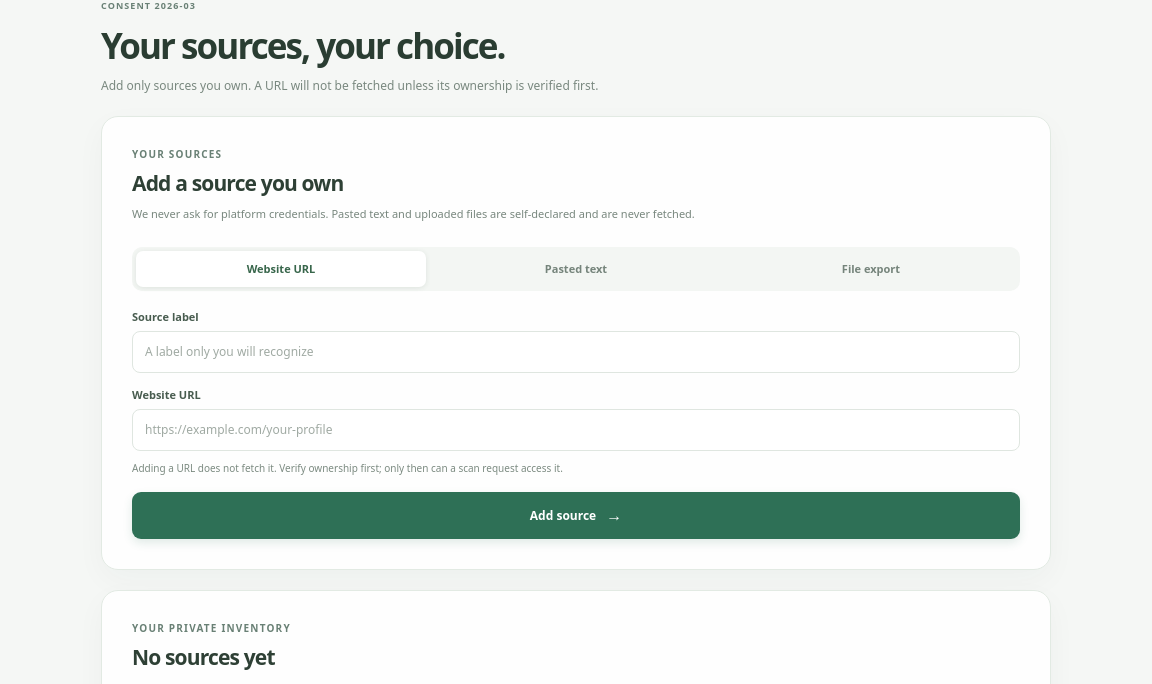
consent and source management › adds pasted text without fetching it and displays only the masked preview
This screenshot has width=1152, height=684.
Check: the heading "No sources yet" is shown, box [132,642,291,670]
Click the button "Pasted text" at {"x": 576, "y": 268}, box [431,250,721,286]
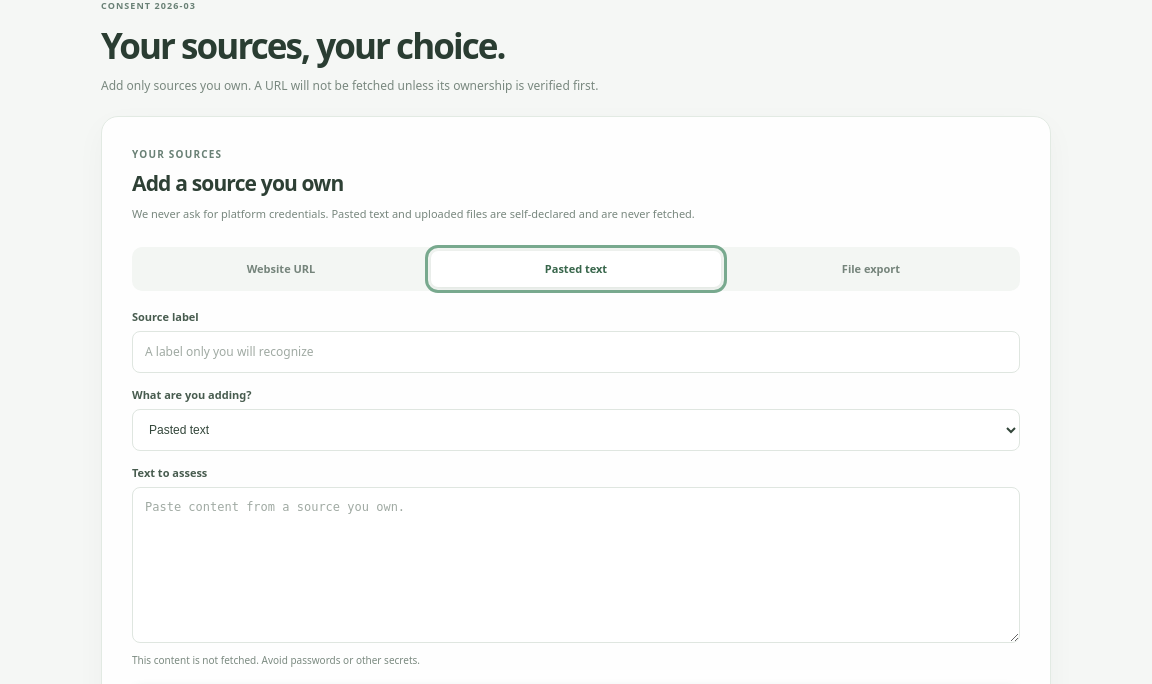
Type "My notes" into the field labelled "Source label" at {"x": 576, "y": 352}, box [132,330,1020,372]
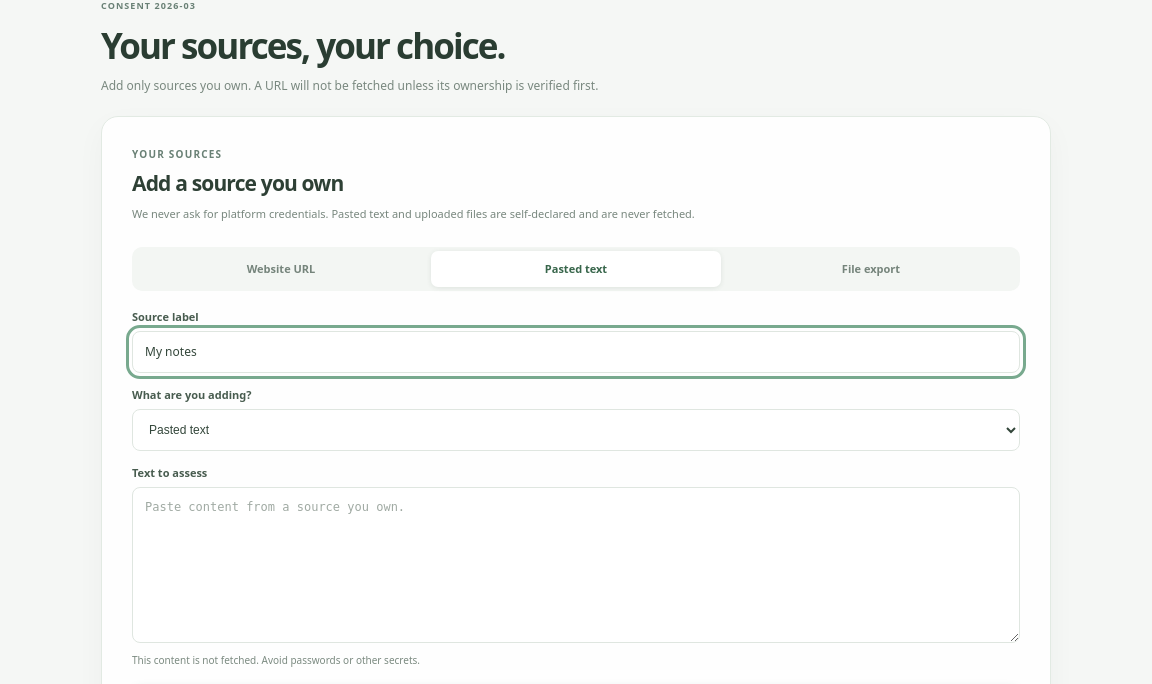
Type "Synthetic text to assess" into the text box labelled "Text to assess" at {"x": 576, "y": 565}, box [132,486,1020,643]
(page scrolled)
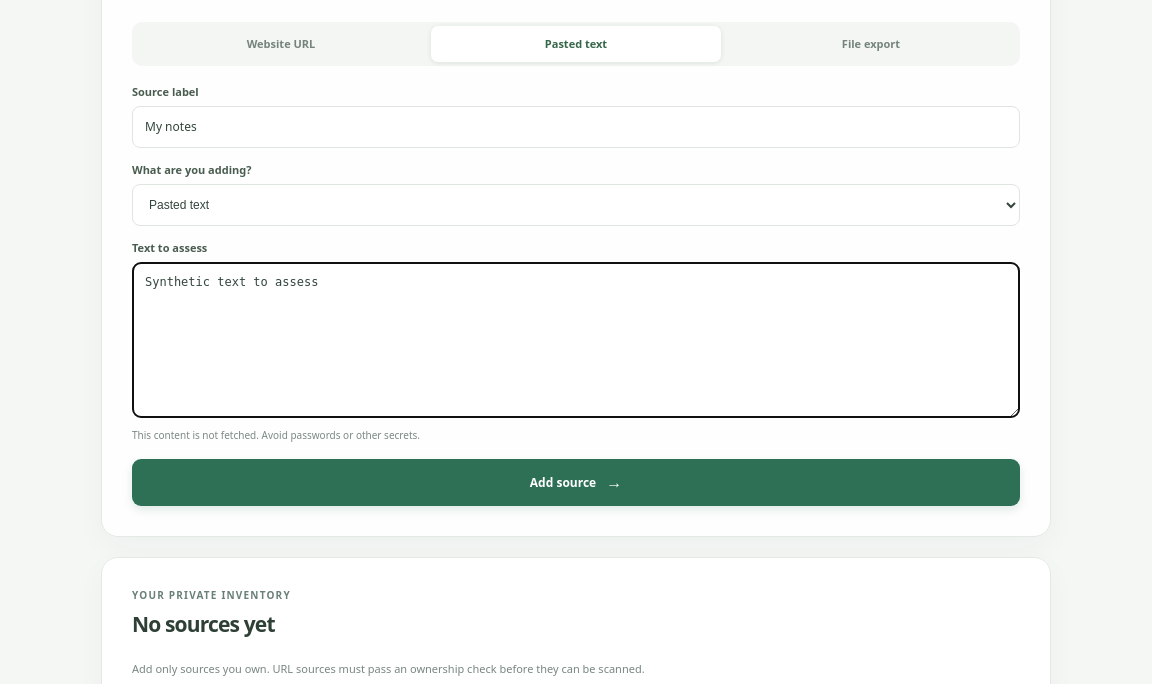
Click the button "Add source →" at {"x": 576, "y": 482}, box [132,459,1020,506]
(page scrolled)
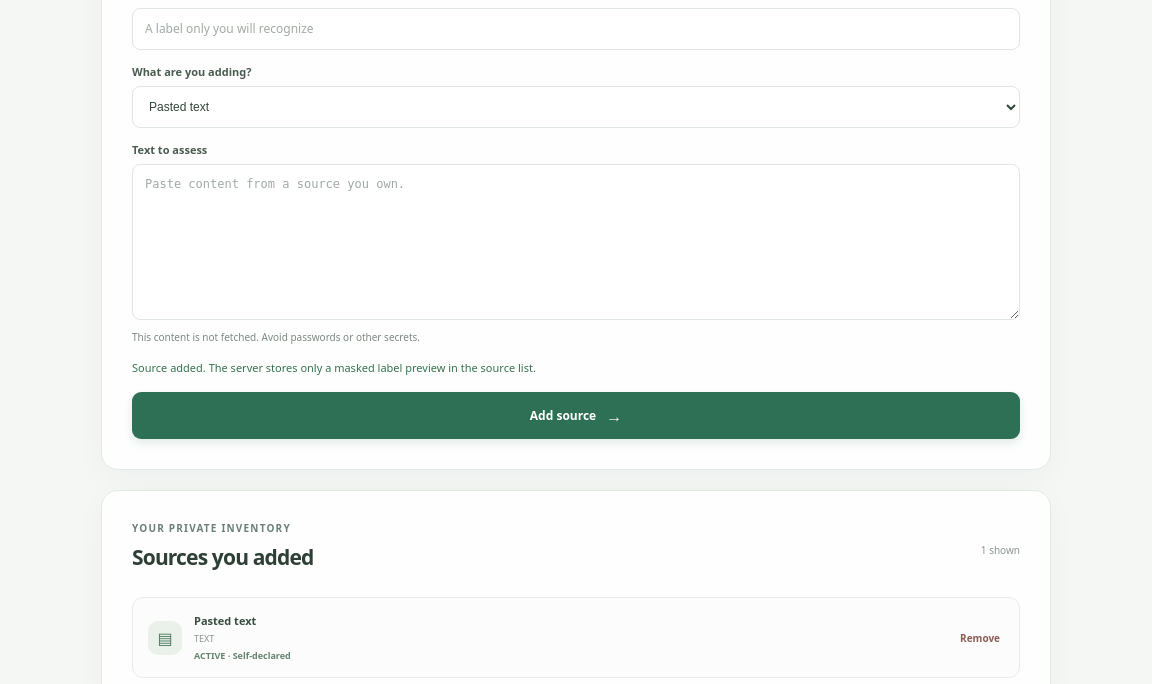
Check: the text "Source added" is shown, box [132,360,536,375]
Check: the text "ACTIVE · Self-declared" is shown, box [194,649,291,662]
